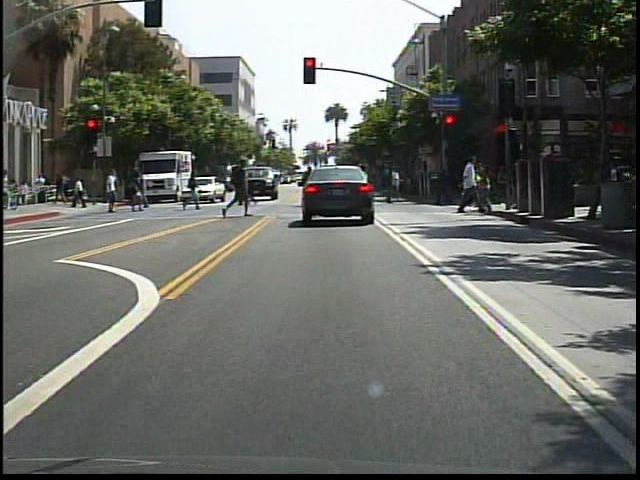person: (223, 154, 254, 224), (456, 152, 488, 216), (359, 164, 383, 219), (103, 168, 125, 215), (184, 168, 205, 214), (130, 170, 145, 215), (239, 168, 256, 207), (139, 171, 149, 213)
